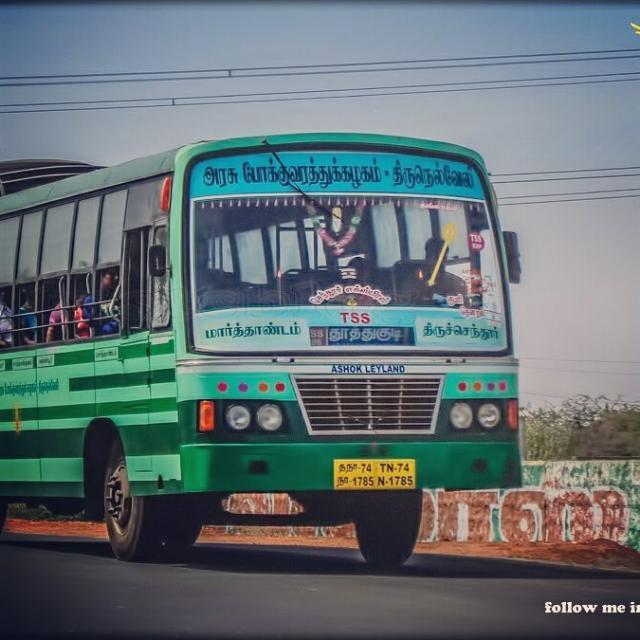Bus: (2, 130, 533, 560)
